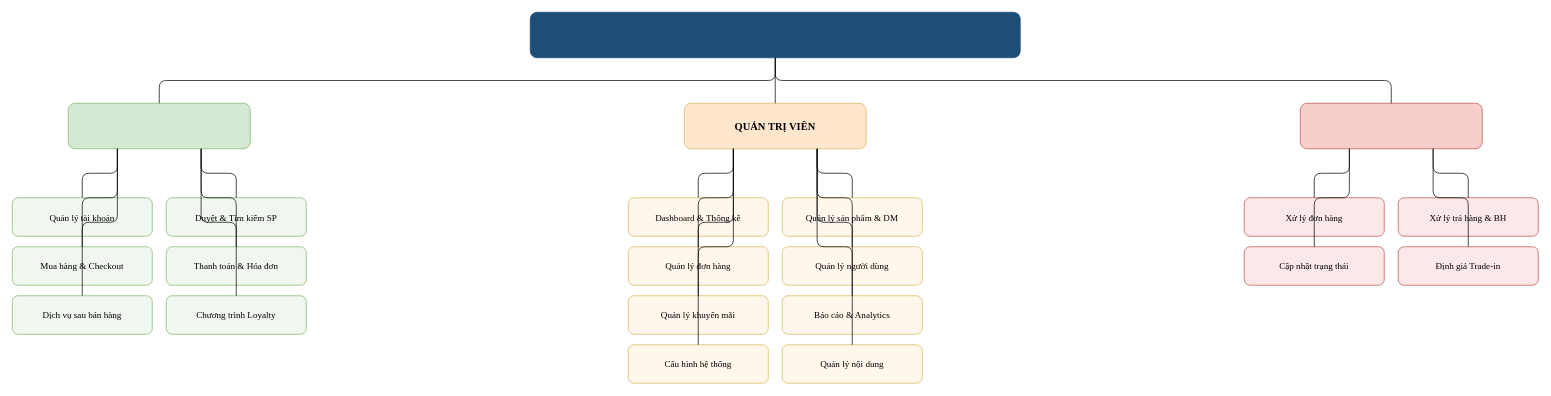
This 1551x396 diagram has some shape labels left out. The shapes that lost their labels are listed below. From the top down, each one's box as (x1, y1, x2, y2) in pixels, then its label:
(530, 12, 1020, 58): CELLPHONES B2C PLATFORM
(68, 103, 250, 149): KHÁCH HÀNG
(1300, 103, 1482, 149): NHÂN VIÊN
